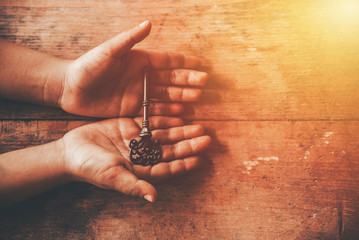finger: (134, 136, 219, 161), (142, 122, 210, 143), (135, 158, 204, 177), (153, 67, 217, 85), (147, 85, 212, 102), (148, 53, 207, 67), (138, 115, 185, 130), (143, 101, 183, 115)
